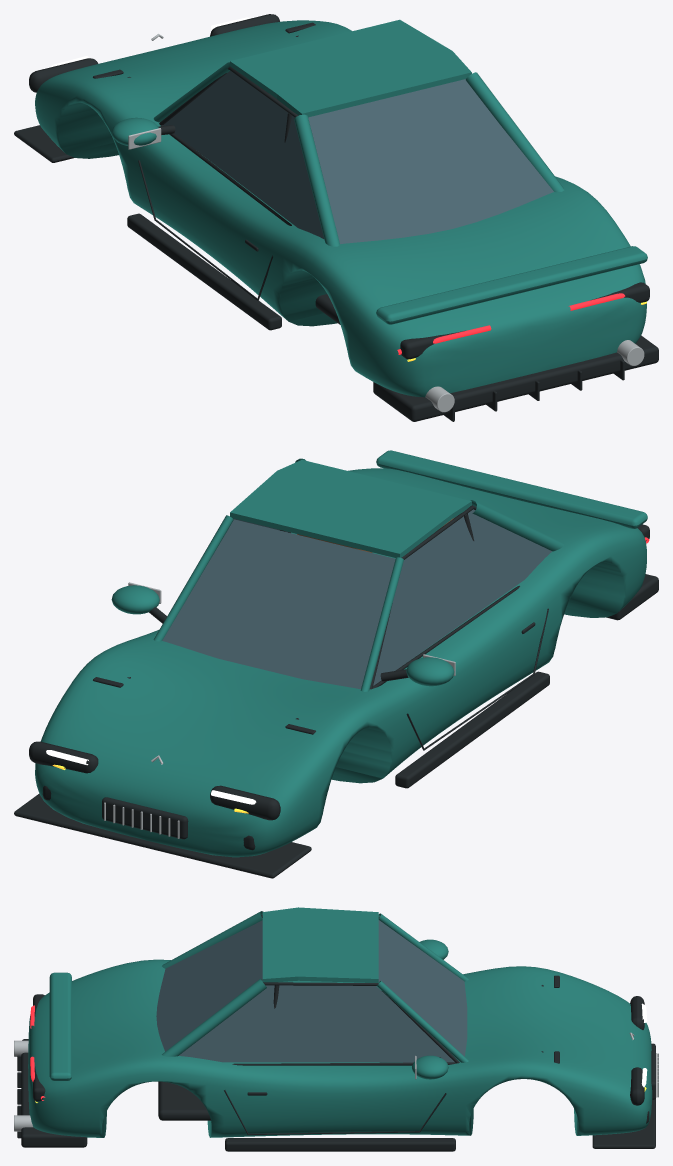
File: aster_gt.glb
3 renders of one model, top to bottom at view 1: azimuth 30°, elevation 25°; view 2: azimuth 150°, elevation 25°; view 3: azimuth 270°, elevation 25°, orthographic. The views are drawn at different scales.
Visible parts, largest first — view 1: Body_Sculpted_GT, RearGlass, Roof, SideWindow_-1, Ducktail, RearDiffuser, Sill_-1, C_pillar_-1, C_pillar_1, WindowTrim_-1, Splitter, Mirror_-1 (+4 smaller); view 2: Body_Sculpted_GT, Windshield, Roof, SideWindow_-1, Ducktail, Splitter, Sill_-1, FrontGrille, A_pillar_1, A_pillar_-1, HeadlampPocket_-1, C_pillar_-1 (+5 smaller); view 3: Body_Sculpted_GT, SideWindow_1, Roof, RearGlass, Windshield, Sill_1, Ducktail, CabinFloor, RearDiffuser, C_pillar_1, Splitter, WindowTrim_1 (+7 smaller).
Part boxes in pixels (box(x1,y1,x2,y2)): Body_Sculpted_GT: box(35, 20, 646, 397); RearGlass: box(308, 79, 553, 244); Roof: box(230, 19, 471, 117); SideWindow_-1: box(164, 71, 324, 238); Ducktail: box(376, 246, 647, 324); RearDiffuser: box(373, 335, 658, 421); Sill_-1: box(127, 213, 281, 330); C_pillar_-1: box(294, 114, 339, 246); C_pillar_1: box(465, 72, 564, 192); WindowTrim_-1: box(159, 66, 298, 225); Splitter: box(14, 125, 74, 162); Mirror_-1: box(111, 117, 158, 145); Body_Sculpted_GT: box(35, 468, 646, 857); Windshield: box(162, 519, 395, 689); Roof: box(230, 460, 471, 557); SideWindow_-1: box(373, 509, 551, 685); Ducktail: box(376, 450, 647, 528); Splitter: box(14, 793, 311, 878); Sill_-1: box(395, 671, 549, 788); FrontGrille: box(102, 797, 188, 839); A_pillar_1: box(153, 515, 233, 641); A_pillar_-1: box(360, 557, 403, 691); HeadlampPocket_-1: box(210, 785, 280, 820); C_pillar_-1: box(470, 500, 564, 551); Body_Sculpted_GT: box(28, 959, 652, 1137); SideWindow_1: box(179, 985, 454, 1062); Roof: box(262, 907, 378, 982); RearGlass: box(156, 918, 262, 1051); Windshield: box(378, 920, 467, 1056); Sill_1: box(225, 1138, 455, 1151); Ducktail: box(49, 972, 71, 1080); CabinFloor: box(158, 1081, 210, 1120); RearDiffuser: box(21, 1039, 87, 1147); C_pillar_1: box(162, 979, 266, 1056); Splitter: box(592, 1043, 655, 1148); WindowTrim_1: box(232, 982, 459, 1065).
Size of the model in its own units: 2.38 by 1.36 by 4.89.
